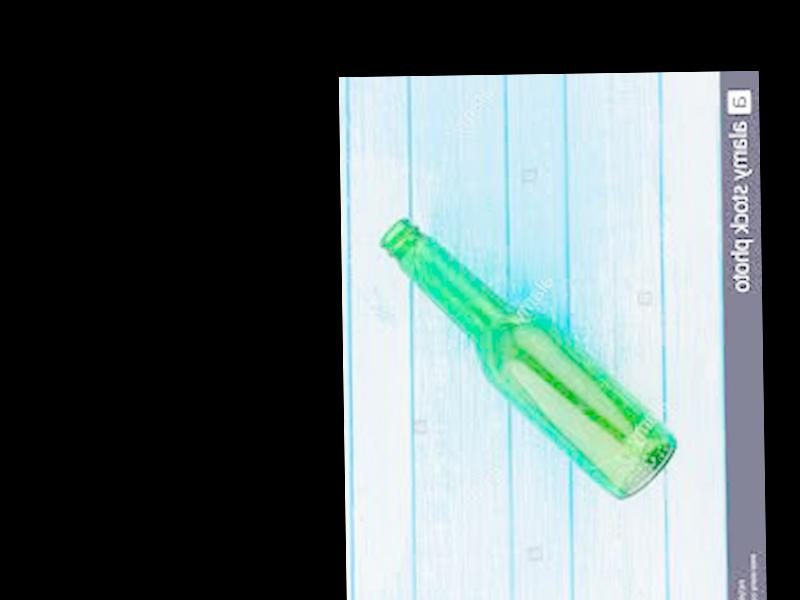Beer: (378, 211, 682, 506)
